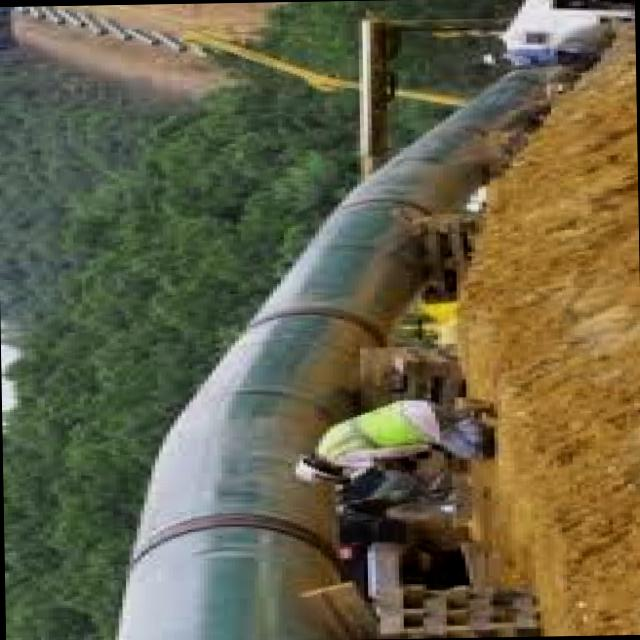gas: (120, 68, 561, 640)
